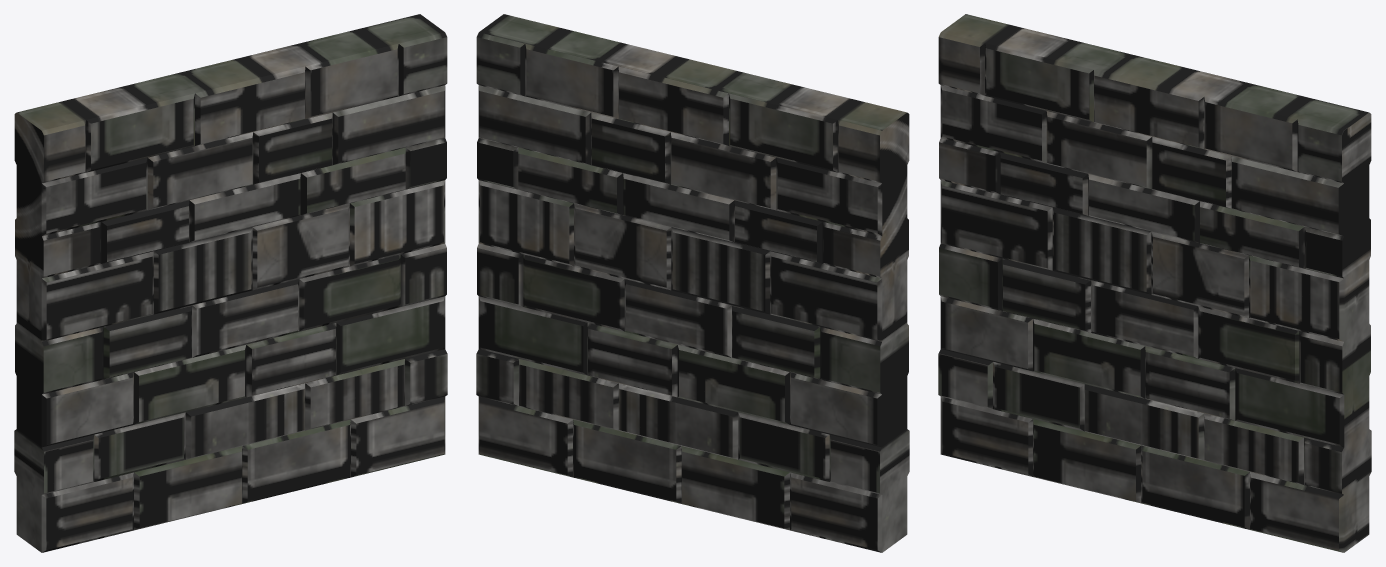
File: mur_droit.fbx
3 views of the same model, side by side, from view 1: azimuth 30°, elevation 25°; view 2: azimuth 150°, elevation 25°; view 3: azimuth 330°, elevation 25° (orthographic).
Parts seen in each view (by area): view 1: mur_droit; view 2: mur_droit; view 3: mur_droit.
Part boxes in pixels (x1=…): mur_droit: x1=14, y1=14, x2=447, y2=552; mur_droit: x1=476, y1=14, x2=909, y2=552; mur_droit: x1=938, y1=14, x2=1371, y2=552.
Bounding box in the file's own units: 4 × 4 × 0.5276.
1 material, 1 textured.
